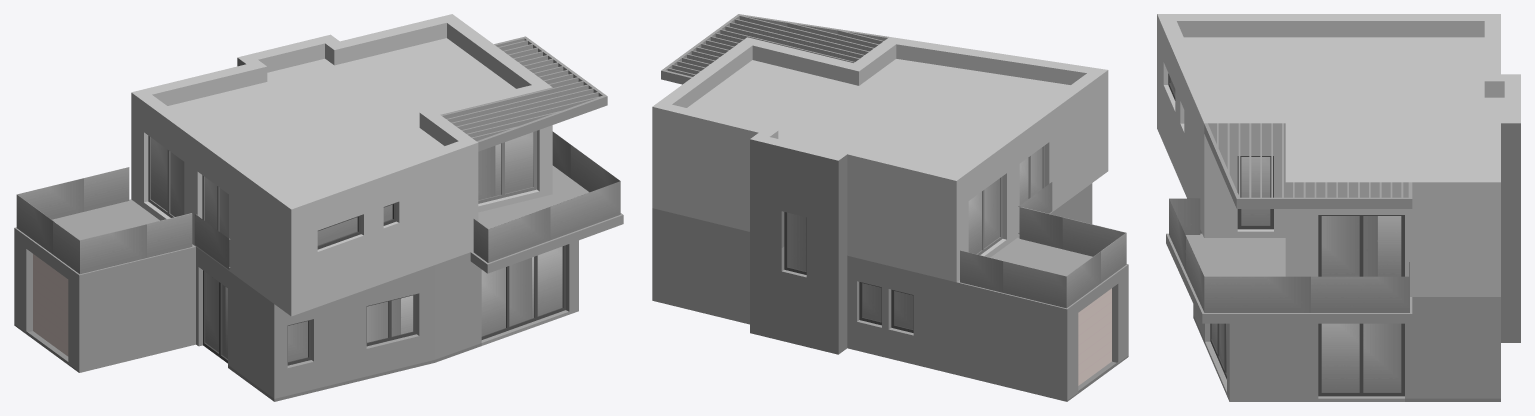
Rendered from kyjeee.glb.
3 views of the same model, side by side, from view 1: azimuth 30°, elevation 25°; view 2: azimuth 150°, elevation 25°; view 3: azimuth 270°, elevation 25° (orthographic). The views are drawn at different scales.
Visible parts, largest first — view 1: Geom3D (×15), Geom3D_; view 2: Geom3D (×15), Geom3D_; view 3: Geom3D (×14).
Part boxes in pixels (box(x1,y1,x2,y2)): Geom3D (×15): box(14, 14, 623, 401); Geom3D_: box(148, 131, 536, 231); Geom3D (×15): box(652, 14, 1128, 401); Geom3D_: box(781, 145, 1044, 254); Geom3D (×14): box(1157, 14, 1520, 401).
Size of the model in its own units: 16.1 by 6.7 by 10.05.
7 materials, 1 textured.
